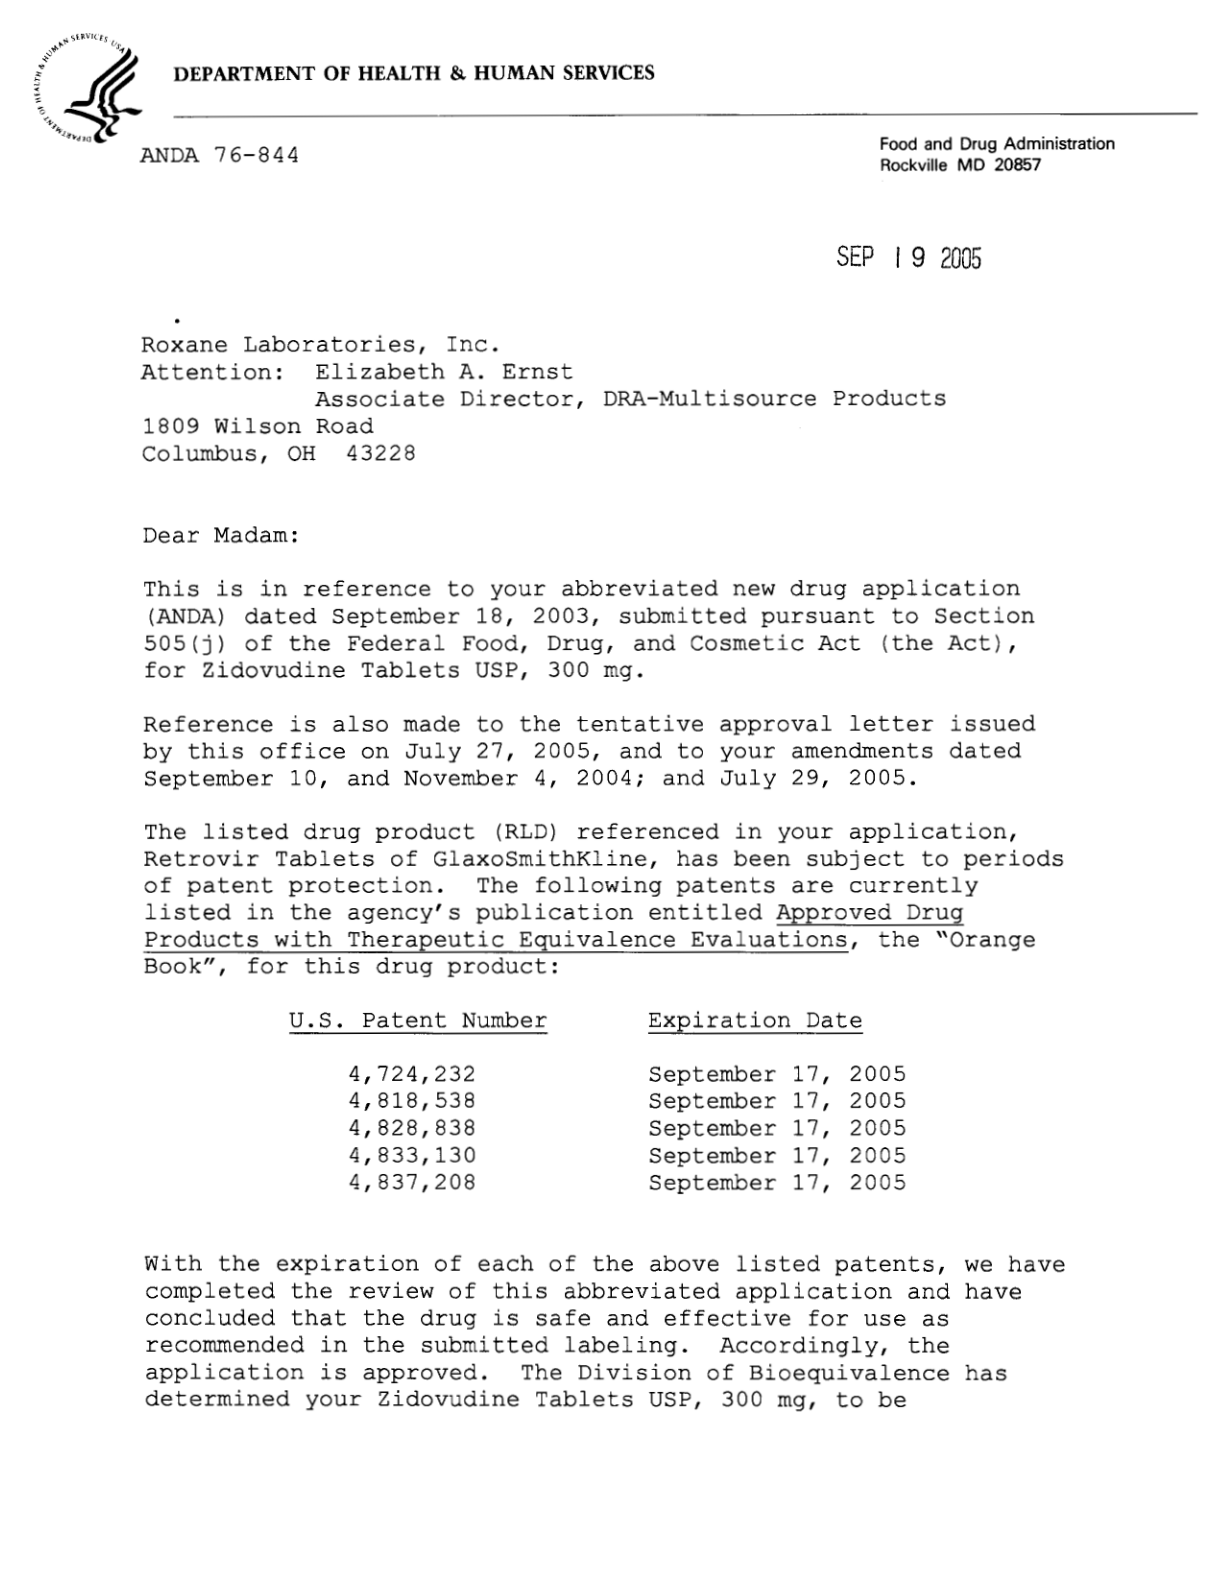nolines: (286, 1006, 911, 1196)
